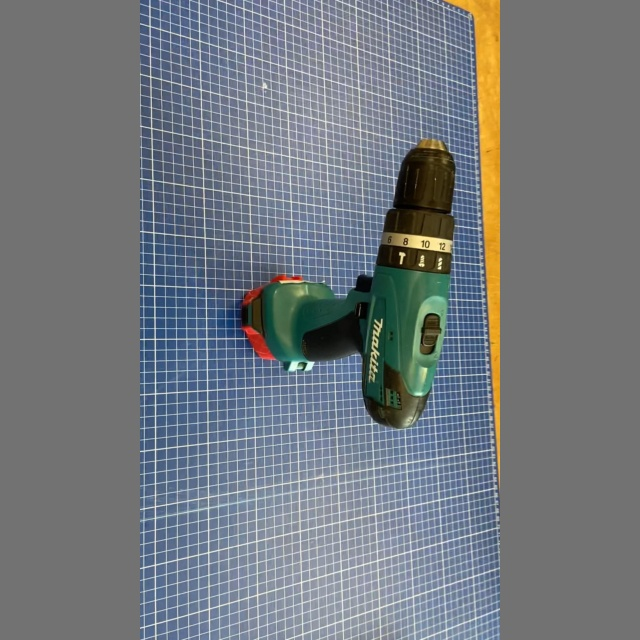drill: (234, 132, 461, 433)
